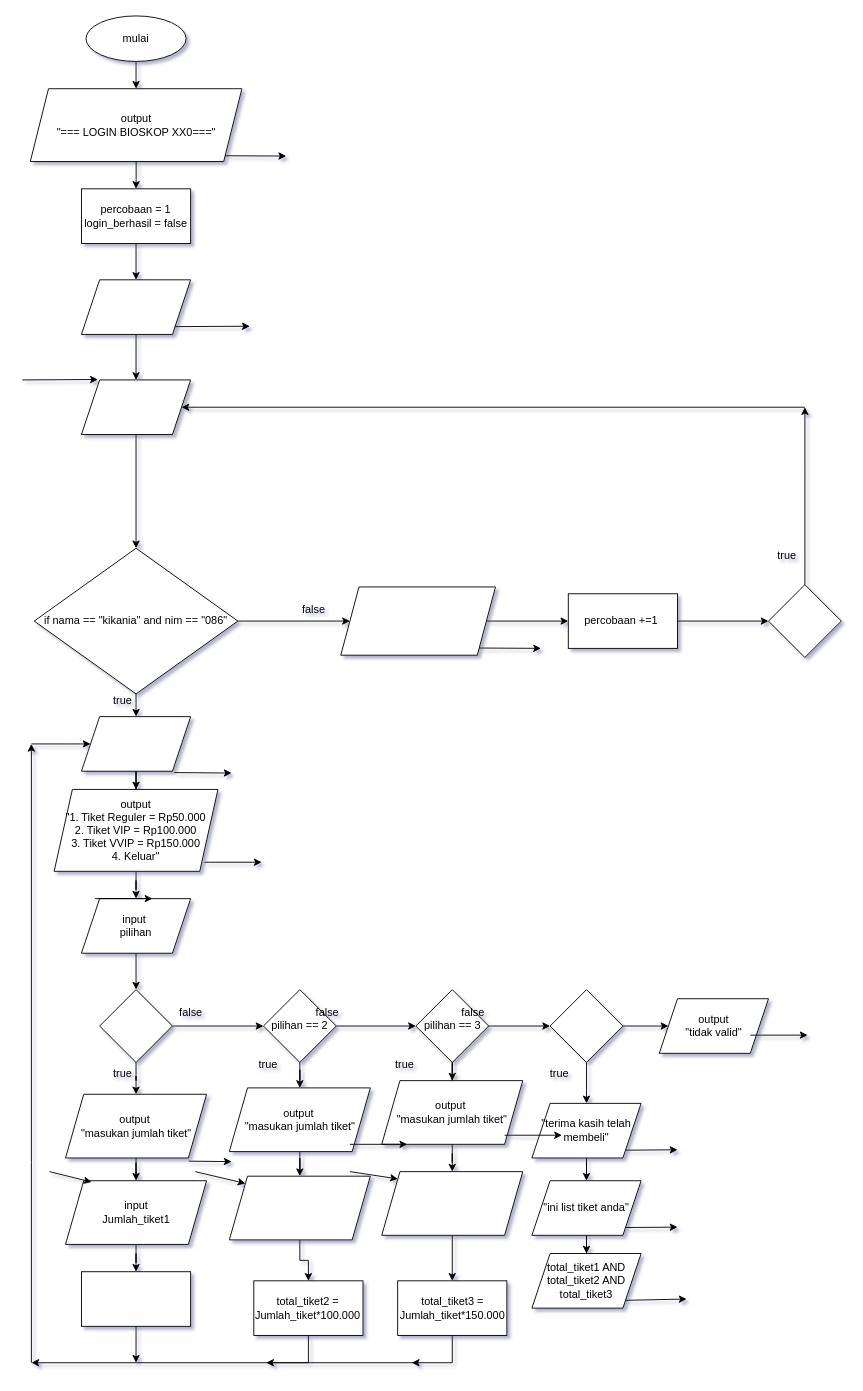
Some shapes in this 863 by 1391 pixel diagram are drawn without their labels. The box of each missing label's shape, as (x1, y1, x2, y2) in pixels:
input Jumlah_tiket2: (228, 1175, 370, 1240)
input Jumlah_tiket3: (381, 1171, 523, 1235)
input nama dan nim: (81, 379, 191, 435)
output "masukkan nama dan nim: ": (81, 279, 191, 334)
output "menu pilihan pembelian tiket bioskop": (81, 716, 191, 771)
output "nama atau password tidak sesuai: (340, 586, 495, 655)
percobaan < 3: (768, 584, 841, 657)
pilihan == 1: (99, 989, 172, 1062)
pilihan == 4: (549, 989, 623, 1062)
total_tiket1 = Jumlah_tiket*50.000: (81, 1271, 191, 1326)
